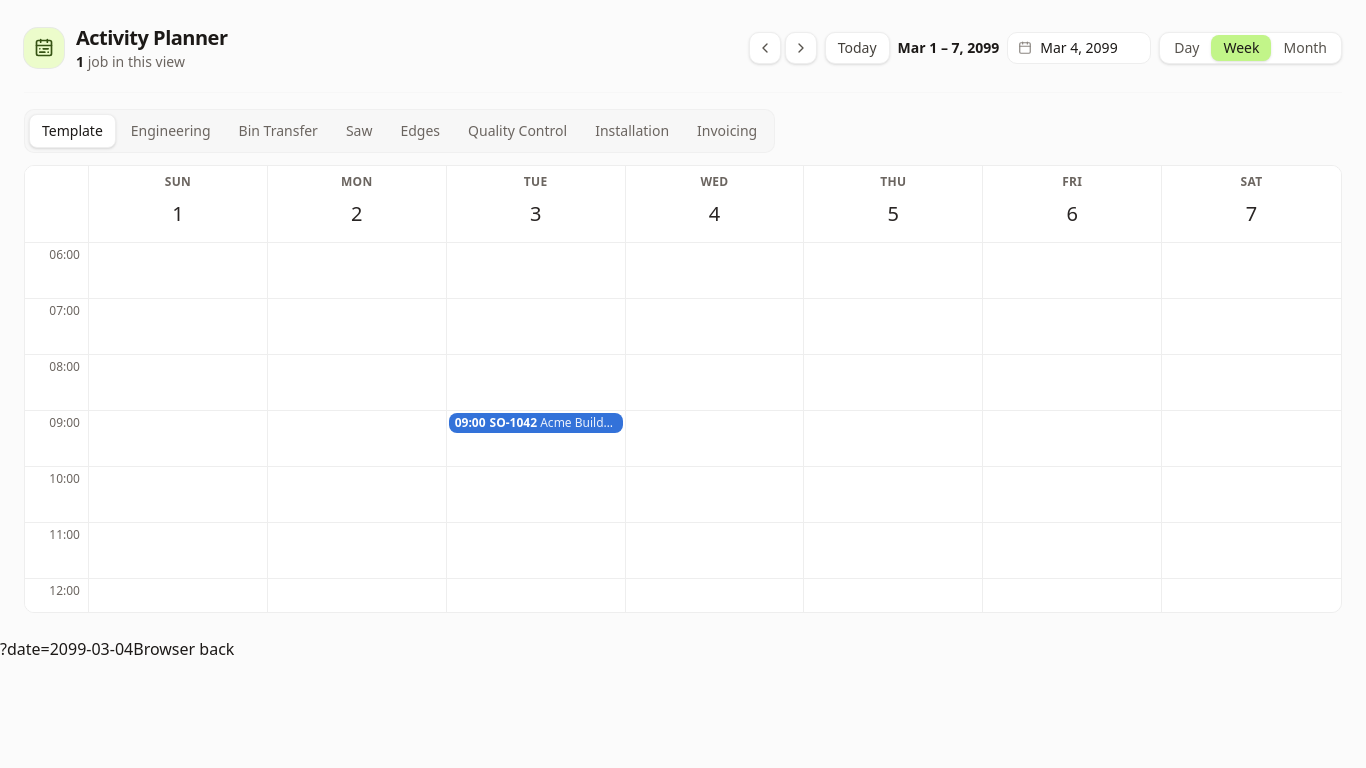
ActivityPlannerPage › names the activity on a card when it says more than the tab does
This screenshot has width=1366, height=768.
(page scrolled)
Click the button with aria-label "SO-1042," at (536, 423), box [449, 413, 623, 433]
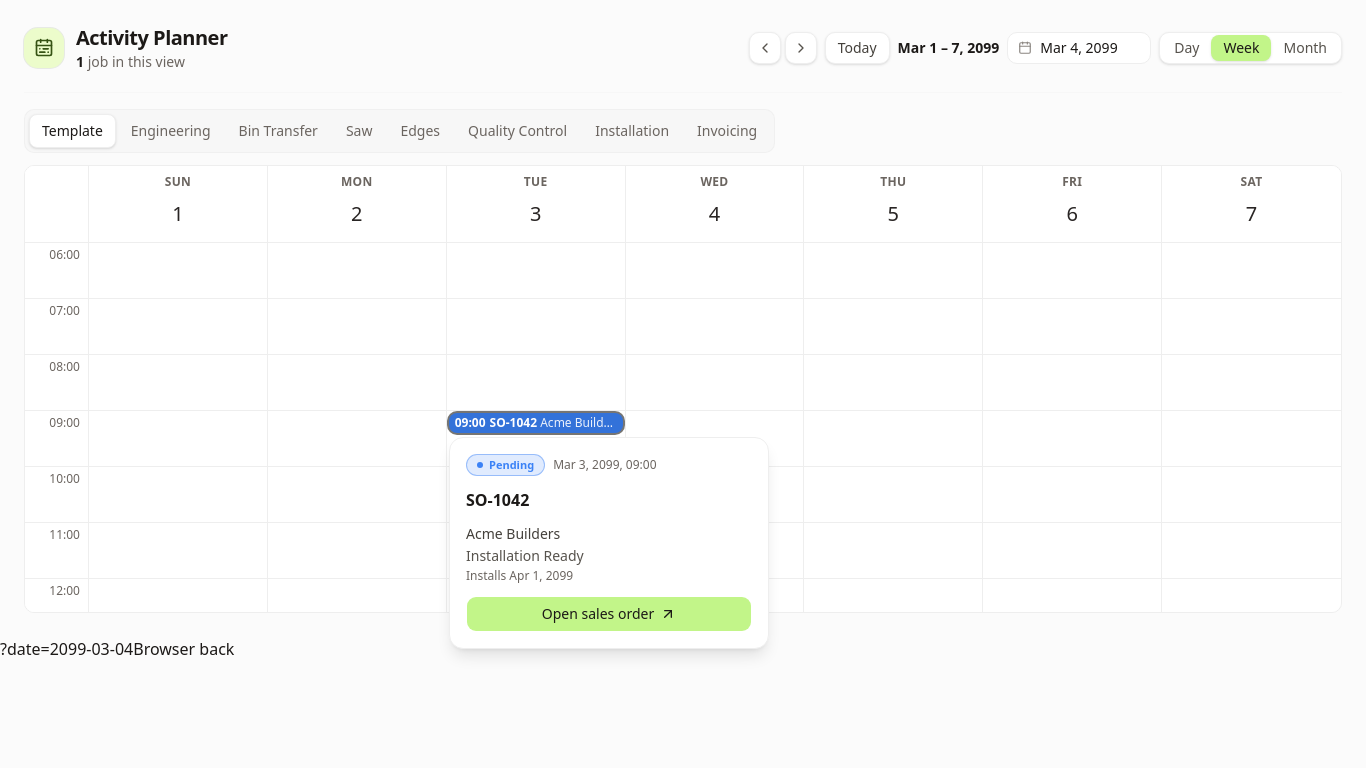
expect the text "Installation Ready" is shown: met, box [466, 546, 584, 565]
expect the link with aria-label "Open SO-1042, Installation Ready," is shown: met, box [466, 596, 752, 632]
